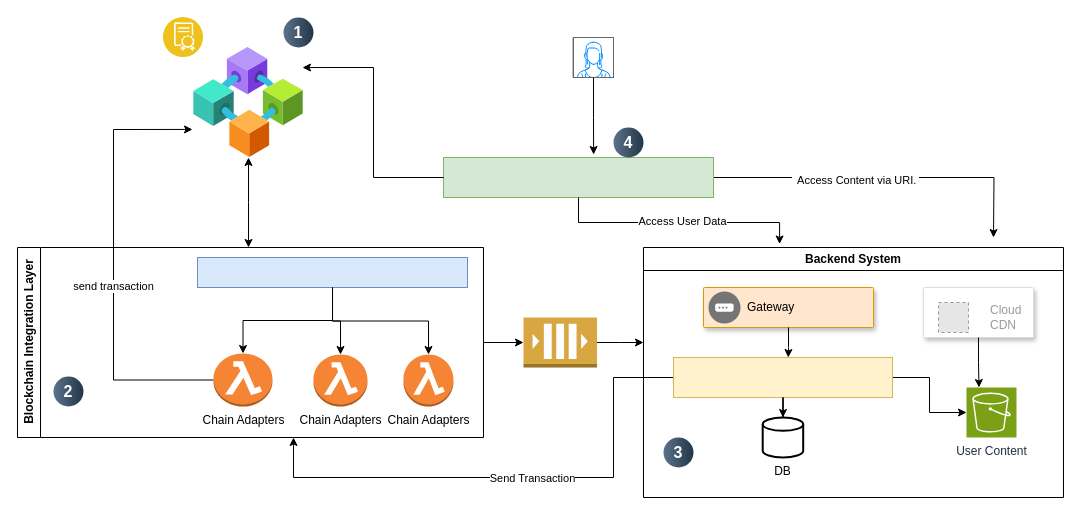
Image size: 1081x515. Some labels were removed from this diagram. Grey dashed boxes stand in for pictures. The centre of each missing label's shape, as x and y in pixels:
"App & Web Server" belongs at (x=578, y=177).
"Event Listener Layer" belongs at (x=332, y=272).
"Events Queue" belongs at (x=559, y=342).
"Microservices" belongs at (x=782, y=377).
"Smart Contract" belongs at (x=183, y=37).
